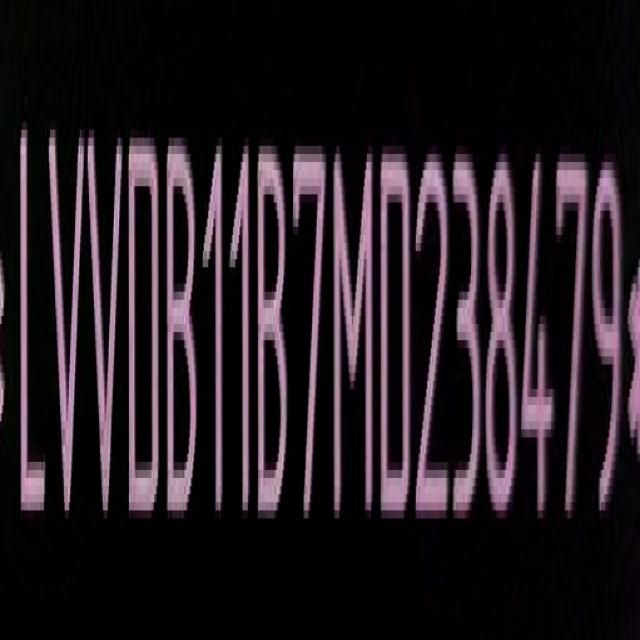1: (206, 131, 230, 530), (229, 131, 252, 528)
2: (415, 145, 450, 531)
3: (454, 148, 484, 530)
4: (524, 147, 557, 528)
7: (294, 139, 330, 529), (557, 145, 587, 527)
8: (486, 149, 522, 526)
9: (592, 152, 624, 525)
B: (166, 129, 202, 529), (256, 135, 291, 527)
D: (382, 141, 418, 528), (130, 124, 164, 529)
L: (17, 114, 47, 541)
M: (334, 143, 376, 529)
V: (87, 121, 127, 531), (45, 120, 84, 535)
